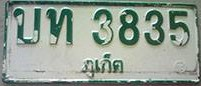txt18: (44, 6, 75, 46)
txt21: (11, 6, 43, 46)
